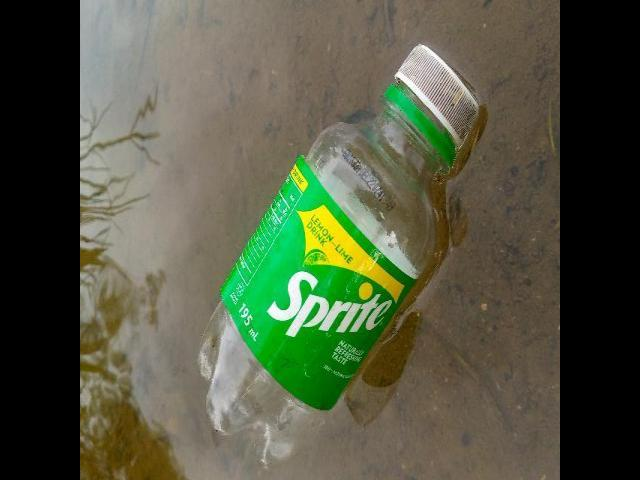Bottle: (197, 40, 486, 466)
